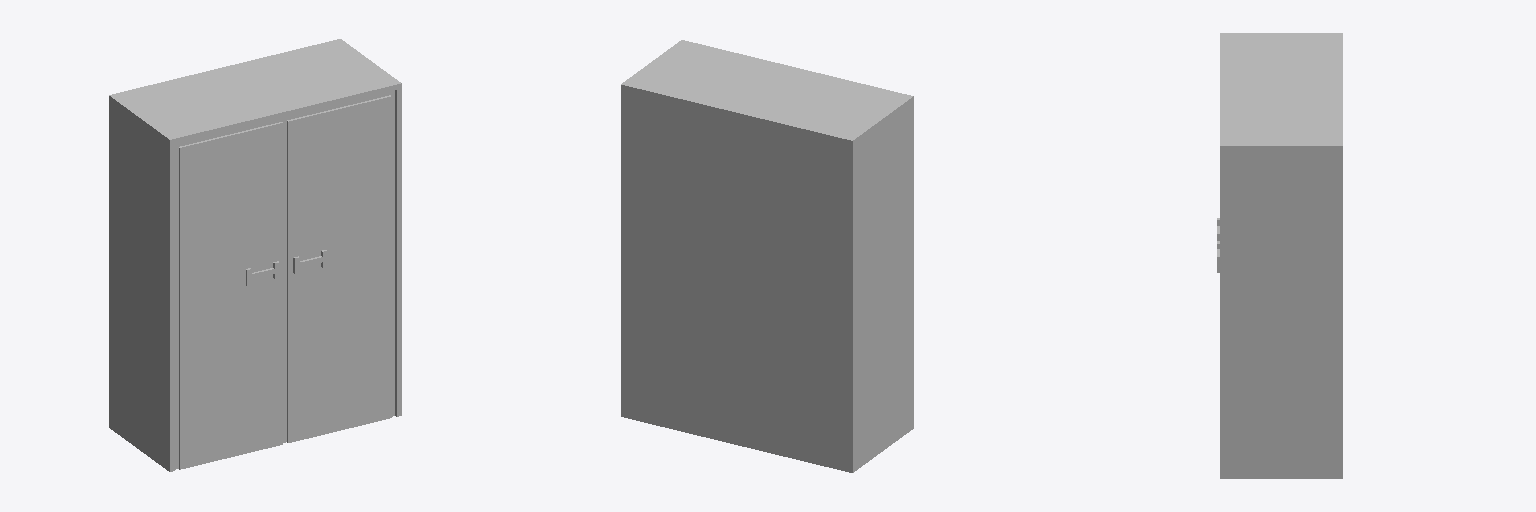
File: wardrobe.obj
The picture shows the model from 3 angles: view 1: azimuth 30°, elevation 25°; view 2: azimuth 150°, elevation 25°; view 3: azimuth 270°, elevation 25°; orthographic projection.
Size of the model in its own units: 92 by 126 by 43.